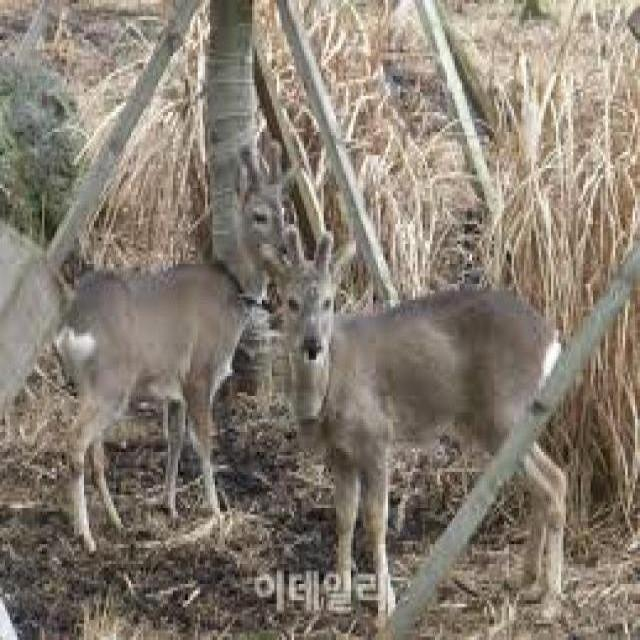deer: (51, 139, 312, 557), (280, 223, 544, 461)
